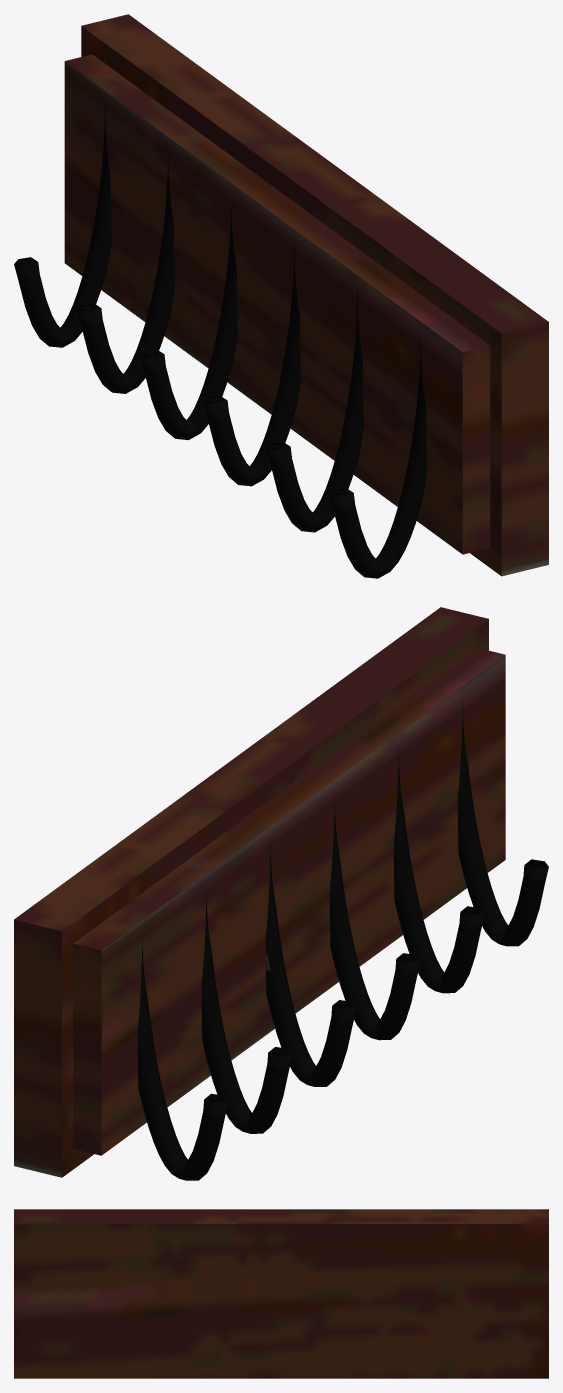
The model's file is CoatRack.fbx.
3 renders of one model, top to bottom at view 1: azimuth 30°, elevation 25°; view 2: azimuth 150°, elevation 25°; view 3: azimuth 270°, elevation 25°, orthographic. The views are drawn at different scales.
Visible parts, largest first — view 1: CoatRack; view 2: CoatRack; view 3: CoatRack.
Boxes of the visible parts, box(x1,y1,x2,y2) form: CoatRack: box(14, 14, 548, 578); CoatRack: box(14, 607, 548, 1180); CoatRack: box(14, 1209, 548, 1378).
Size of the model in its own units: 54.11 by 85.78 by 245.
